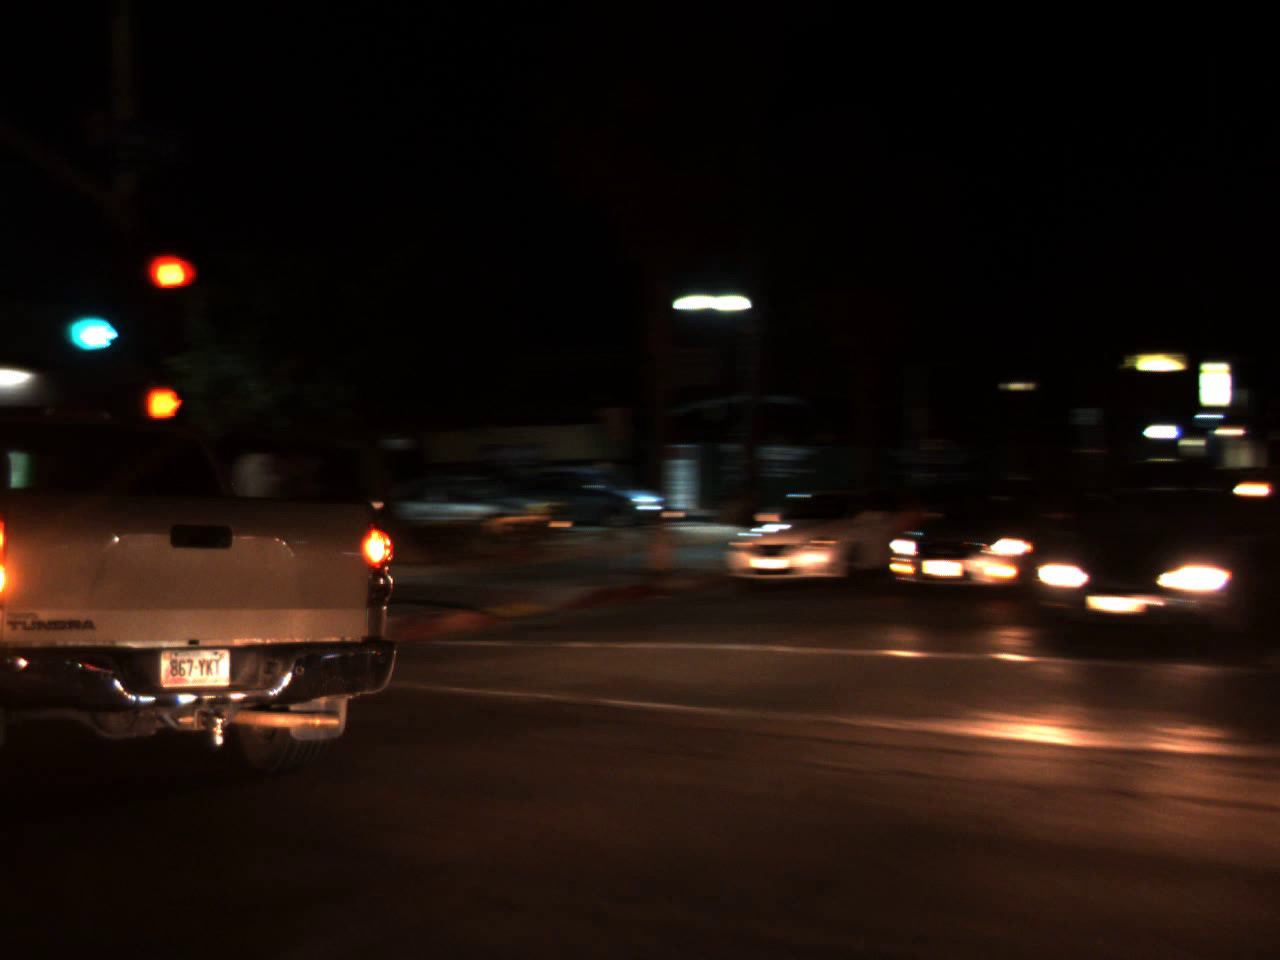go: (70, 286, 125, 361)
